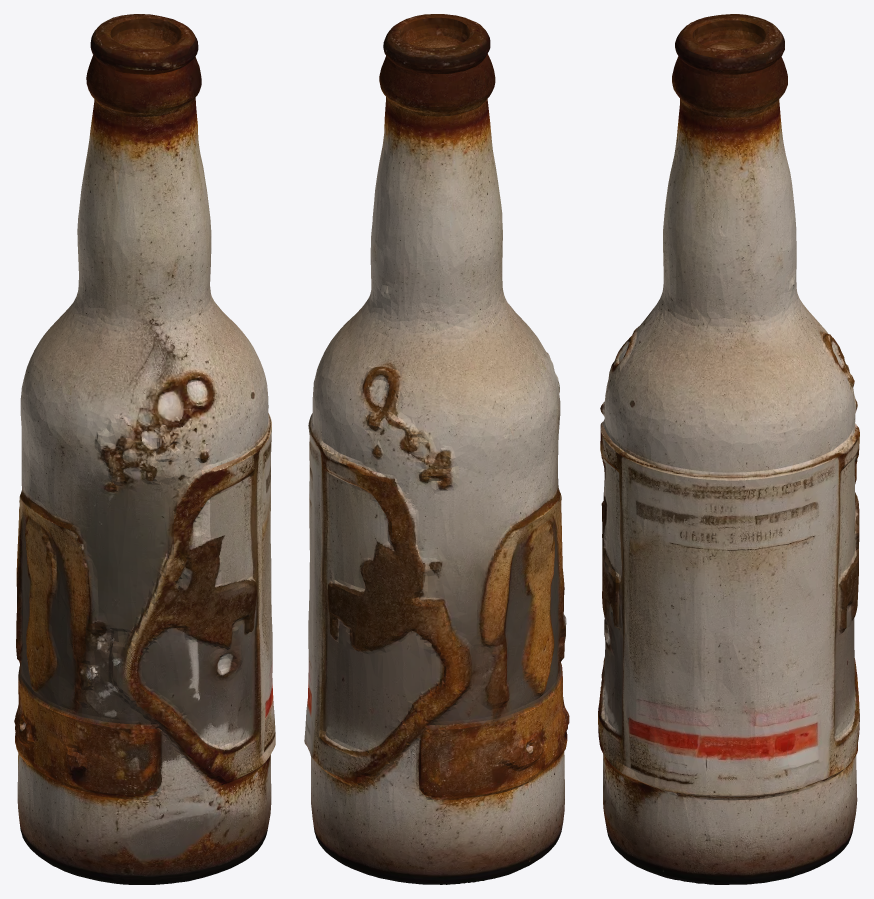
File: tail (157).glb
The picture shows the model from 3 angles, left to right: view 1: azimuth 30°, elevation 25°; view 2: azimuth 150°, elevation 25°; view 3: azimuth 270°, elevation 25°; orthographic projection.
Parts seen in each view (by area): view 1: Hy21_Mesh.obj; view 2: Hy21_Mesh.obj; view 3: Hy21_Mesh.obj.
Part boxes in pixels (x1,y1,x2,y2): Hy21_Mesh.obj: (14, 14, 275, 884); Hy21_Mesh.obj: (304, 14, 569, 884); Hy21_Mesh.obj: (598, 14, 859, 884).
Size of the model in its own units: 0.5706 by 1.96 by 0.5753.
Materials: 1 (1 with a texture image).
